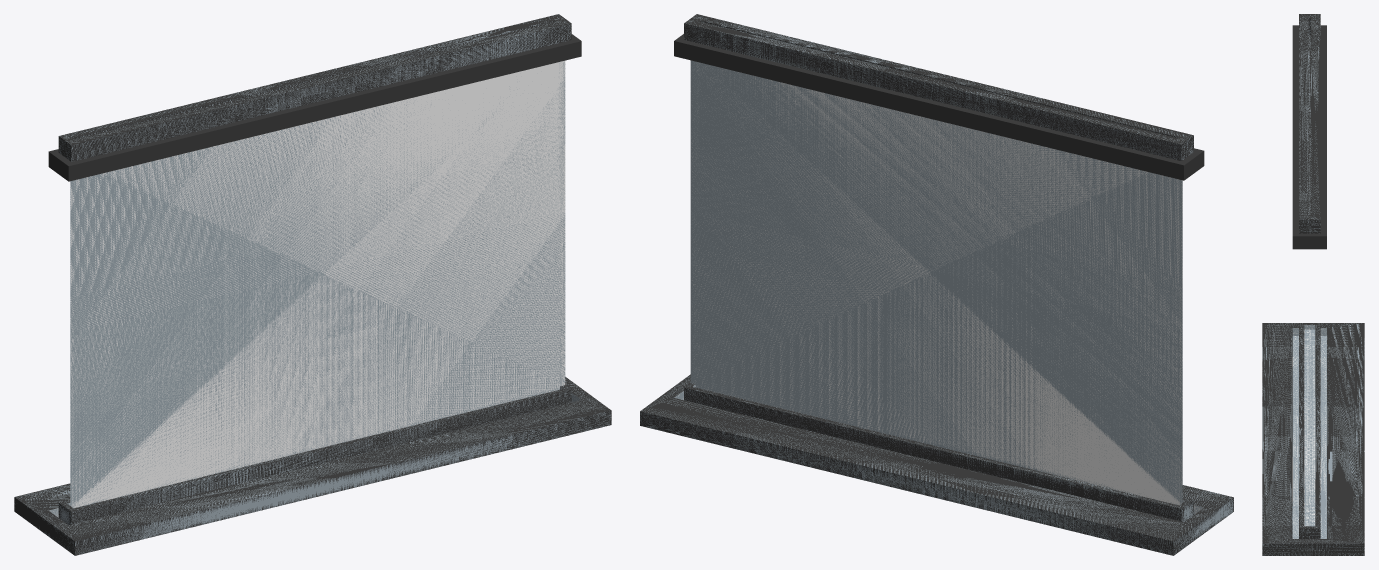
Rendered from Screen 1.fbx.
3 views of the same model, side by side, from view 1: azimuth 30°, elevation 25°; view 2: azimuth 150°, elevation 25°; view 3: azimuth 270°, elevation 25° (orthographic). The views are drawn at different scales.
Parts seen in each view (by area): view 1: Model; view 2: Model; view 3: Model.
Part boxes in pixels (<box>): Model: <box>14,14,611,555</box>; Model: <box>640,14,1233,555</box>; Model: <box>1262,14,1364,555</box>.
Size of the model in its own units: 594 by 413 by 116.
